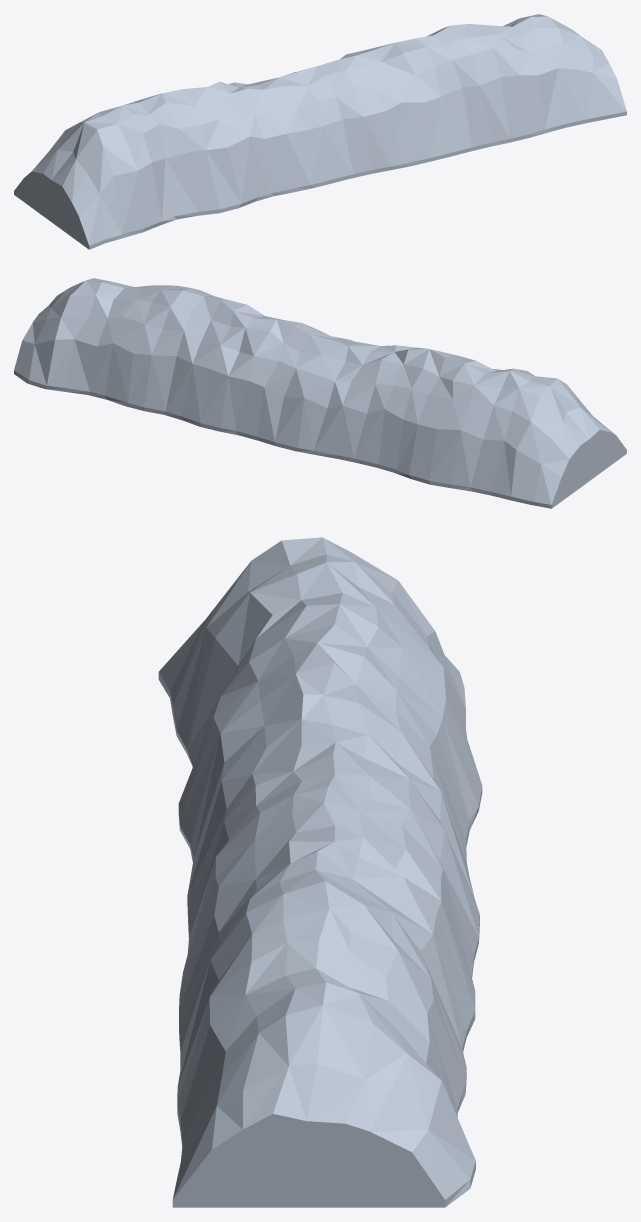
File: Mush_Track_Snowbank_LowPoly.obj
The picture shows the model from 3 angles, top to bottom: view 1: azimuth 30°, elevation 25°; view 2: azimuth 150°, elevation 25°; view 3: azimuth 270°, elevation 25°; orthographic projection. The views are drawn at different scales.
Visible parts, largest first — view 1: Mush_Track_Snowbank_LowPoly; view 2: Mush_Track_Snowbank_LowPoly; view 3: Mush_Track_Snowbank_LowPoly.
Boxes of the visible parts, <box> form: Mush_Track_Snowbank_LowPoly: <box>14,14,626,249</box>; Mush_Track_Snowbank_LowPoly: <box>14,278,626,508</box>; Mush_Track_Snowbank_LowPoly: <box>158,537,482,1207</box>.
Bounding box in the file's own units: 12 × 2.03 × 3.11.
